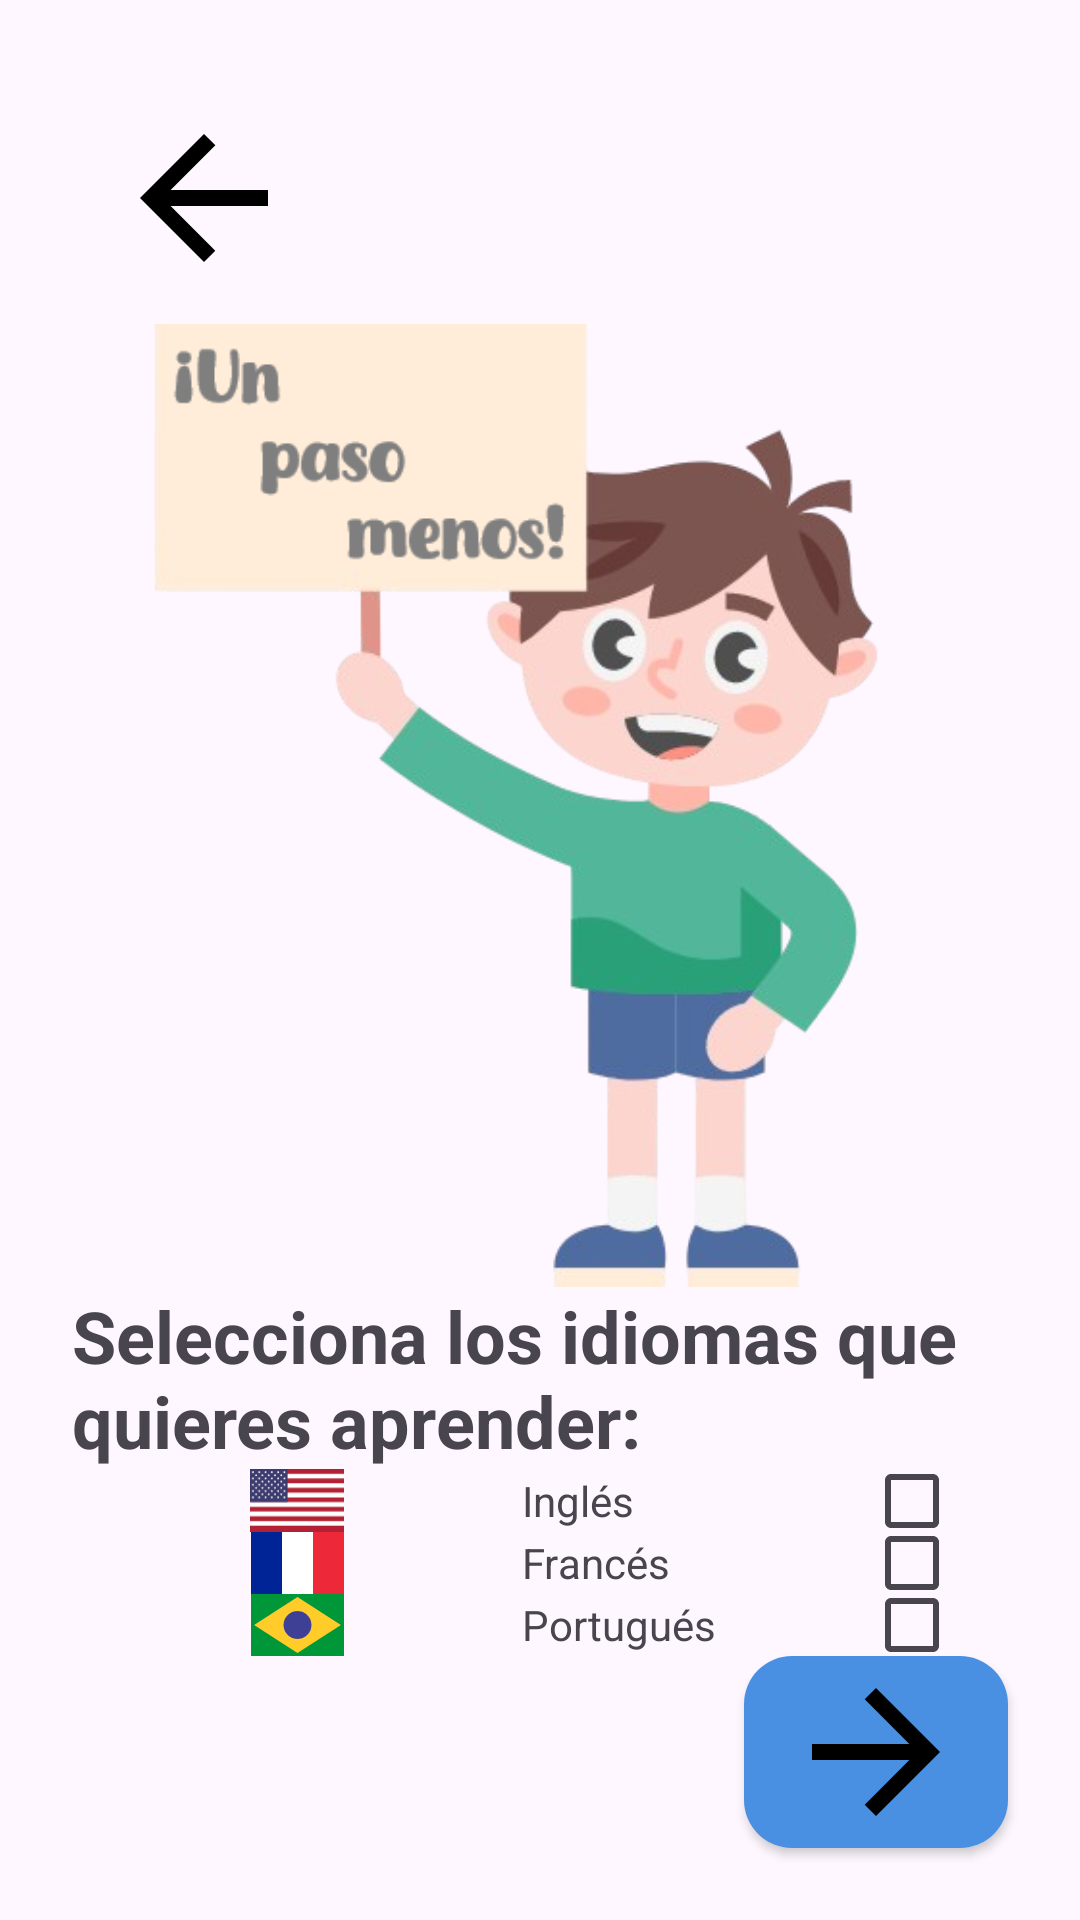

Where to tap for icons on this 1080w x 1920h app screen, as point (x, y):
arrow back: point (204, 198)
arrow forward: point (876, 1752)
banderabrasil: point (297, 1625)
banderafrancia: point (297, 1563)
banderausa: point (297, 1495)
